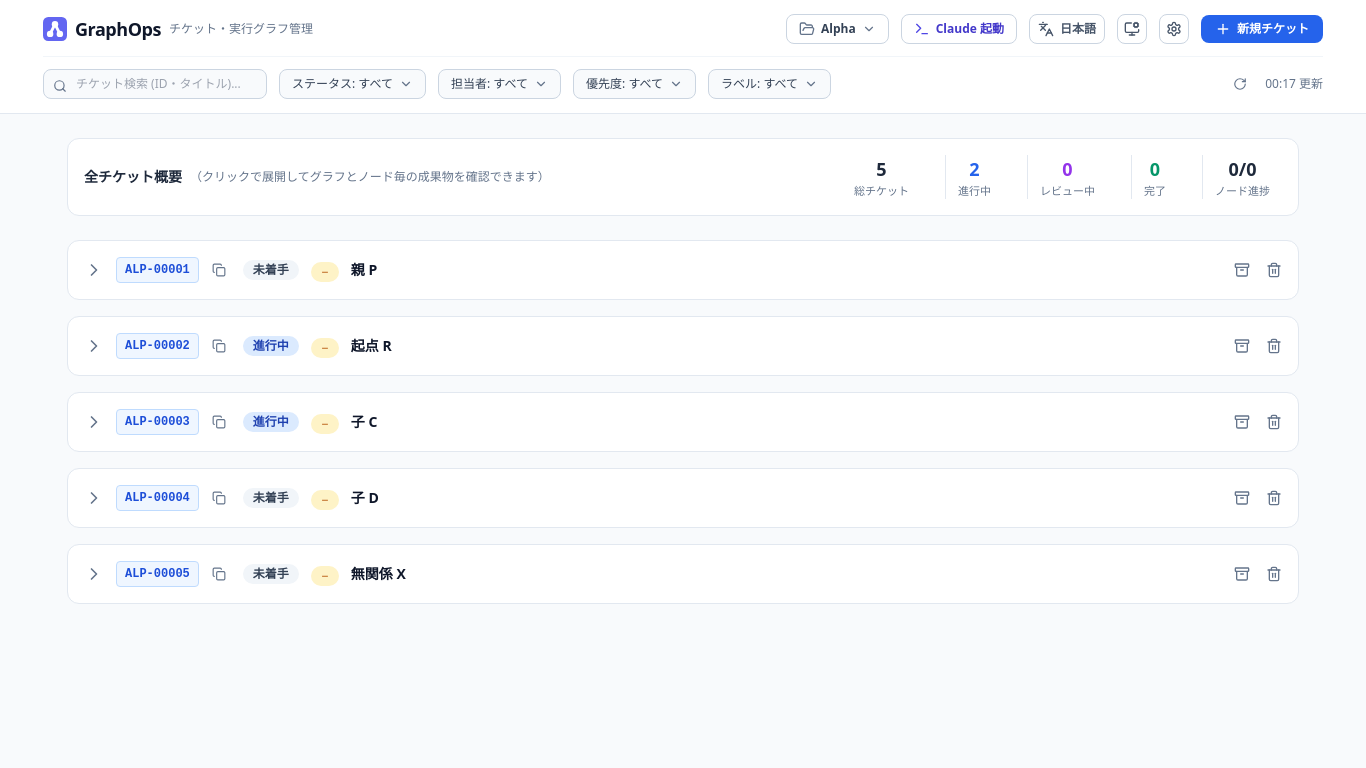
Test: autopilot in the Web UI › starts a ticket run from the ticket detail after confirmation
Expected: the text "ALP-00001" is shown, [116,257,199,283]
Step 1. Click the element with test id "ticket-header-row" → point(157, 574), box [84,561,1286,587]
(page scrolled)
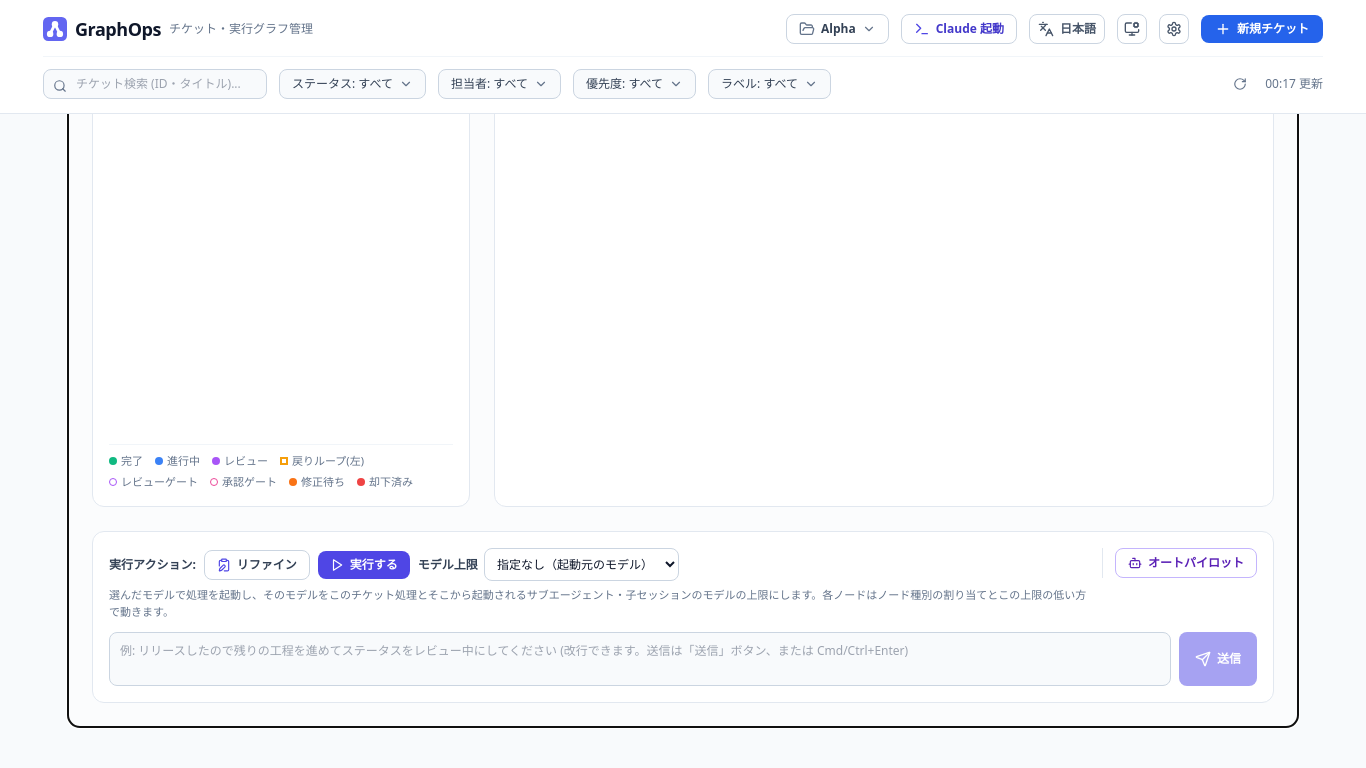
Step 2. Click the button "オートパイロット" → point(1186, 563), box [1115,548,1257,578]
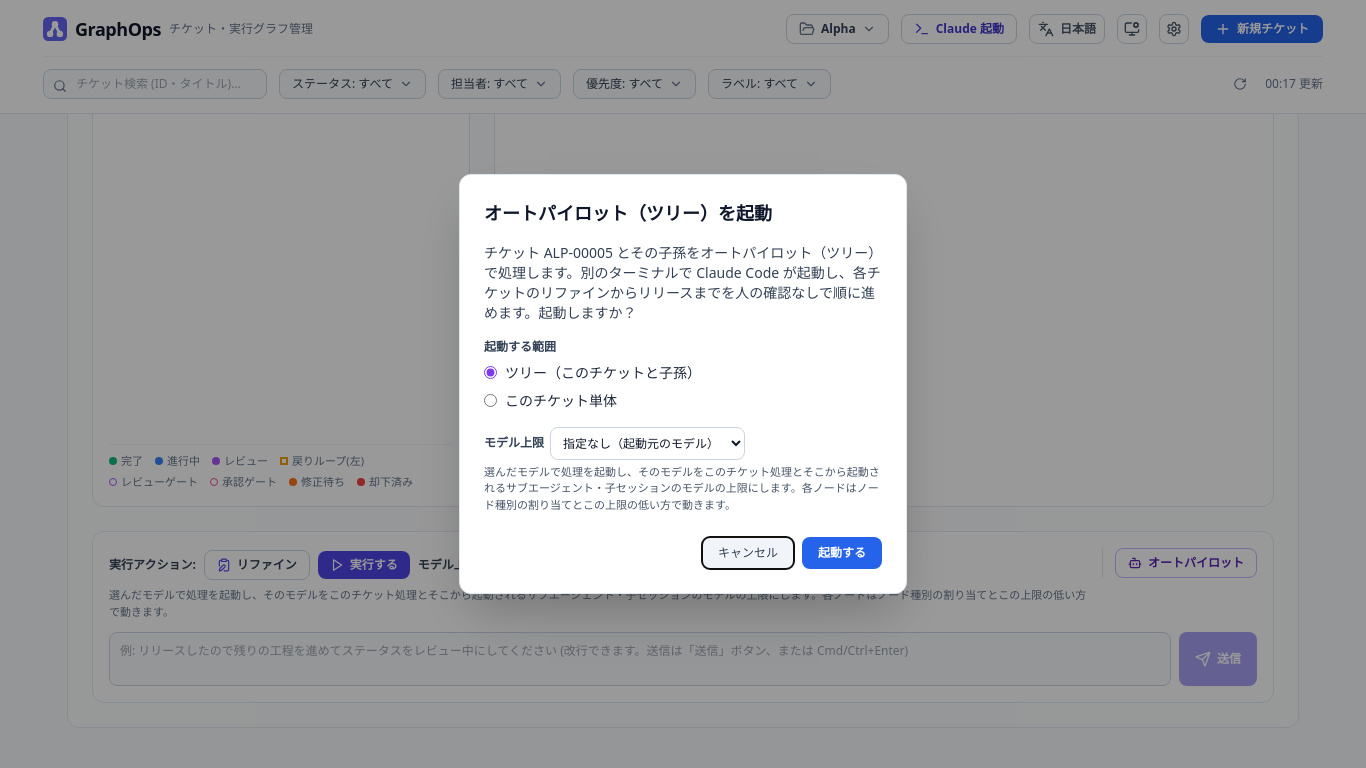
Expected: the radio button labelled "ツリー（このチケットと子孫）" is checked, [484,366,497,379]
Step 3. Click the radio button labelled "このチケット単体" → point(490, 401), box [484,394,497,407]
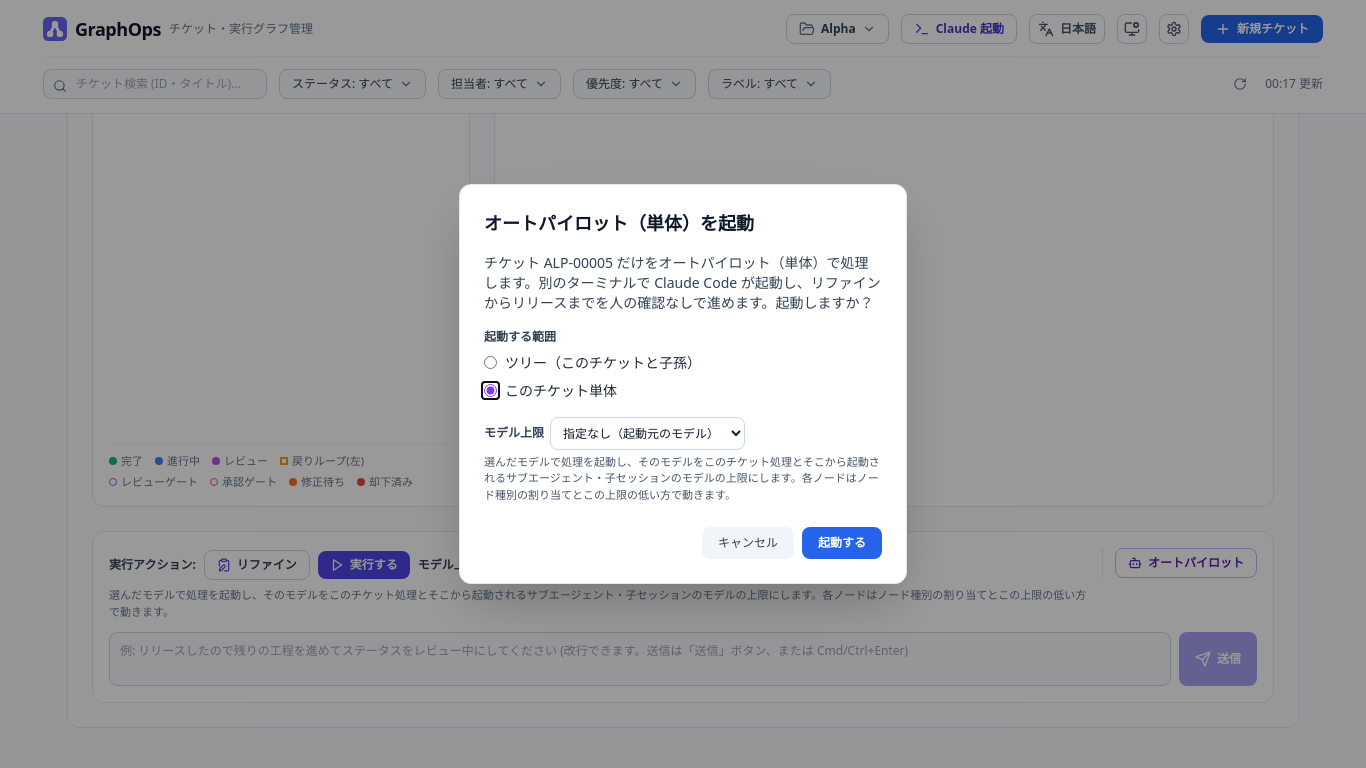
Expected: the button with test id "autopilot-confirm-confirm" reads "起動する"
Step 4. Click the button with test id "autopilot-confirm-confirm" → point(842, 543), box [802,527,882,559]
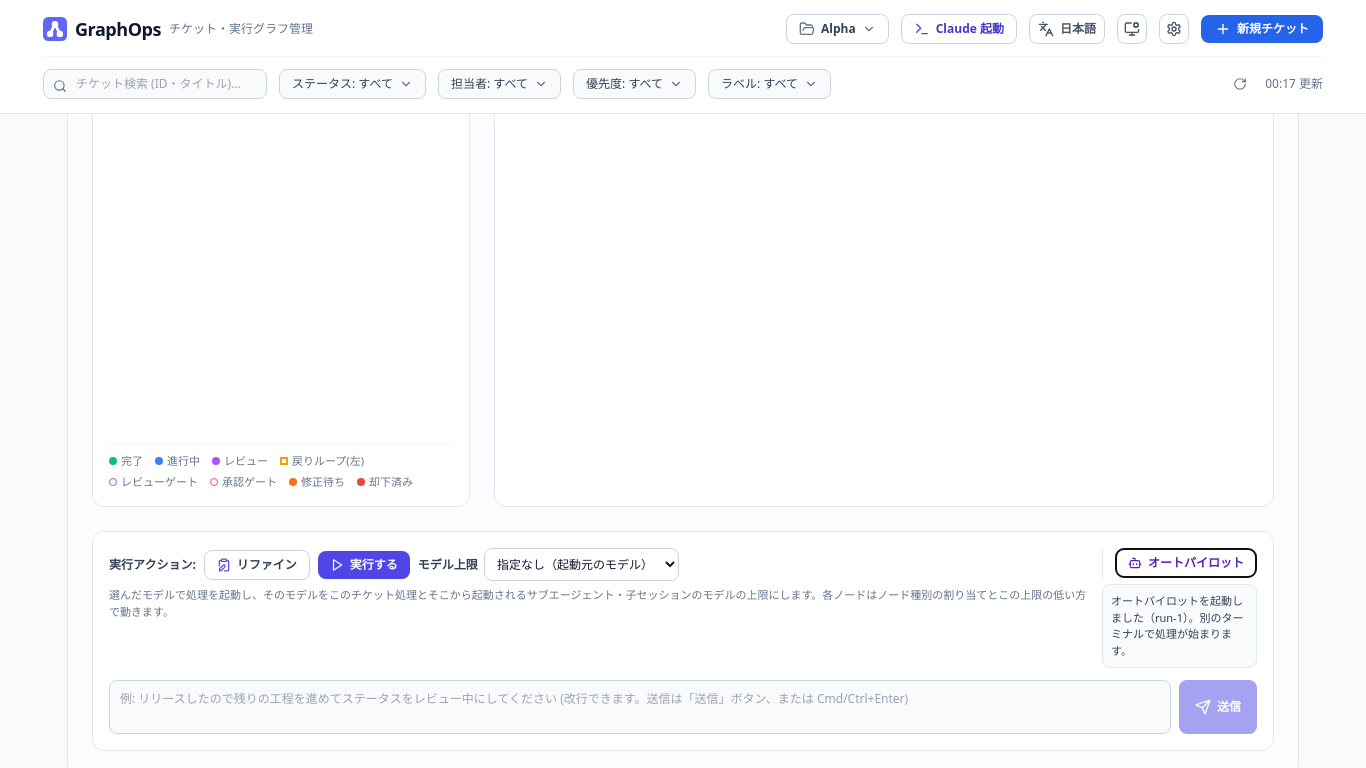
Expected: the dialog with test id "autopilot-confirm" is gone
